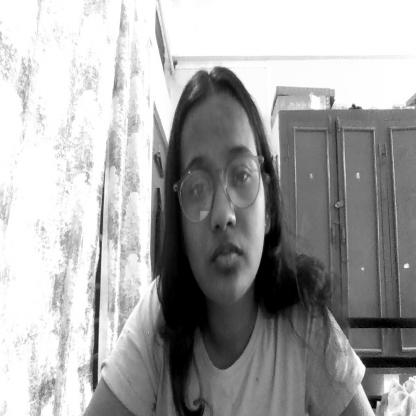Normal: (169, 64, 270, 304)
